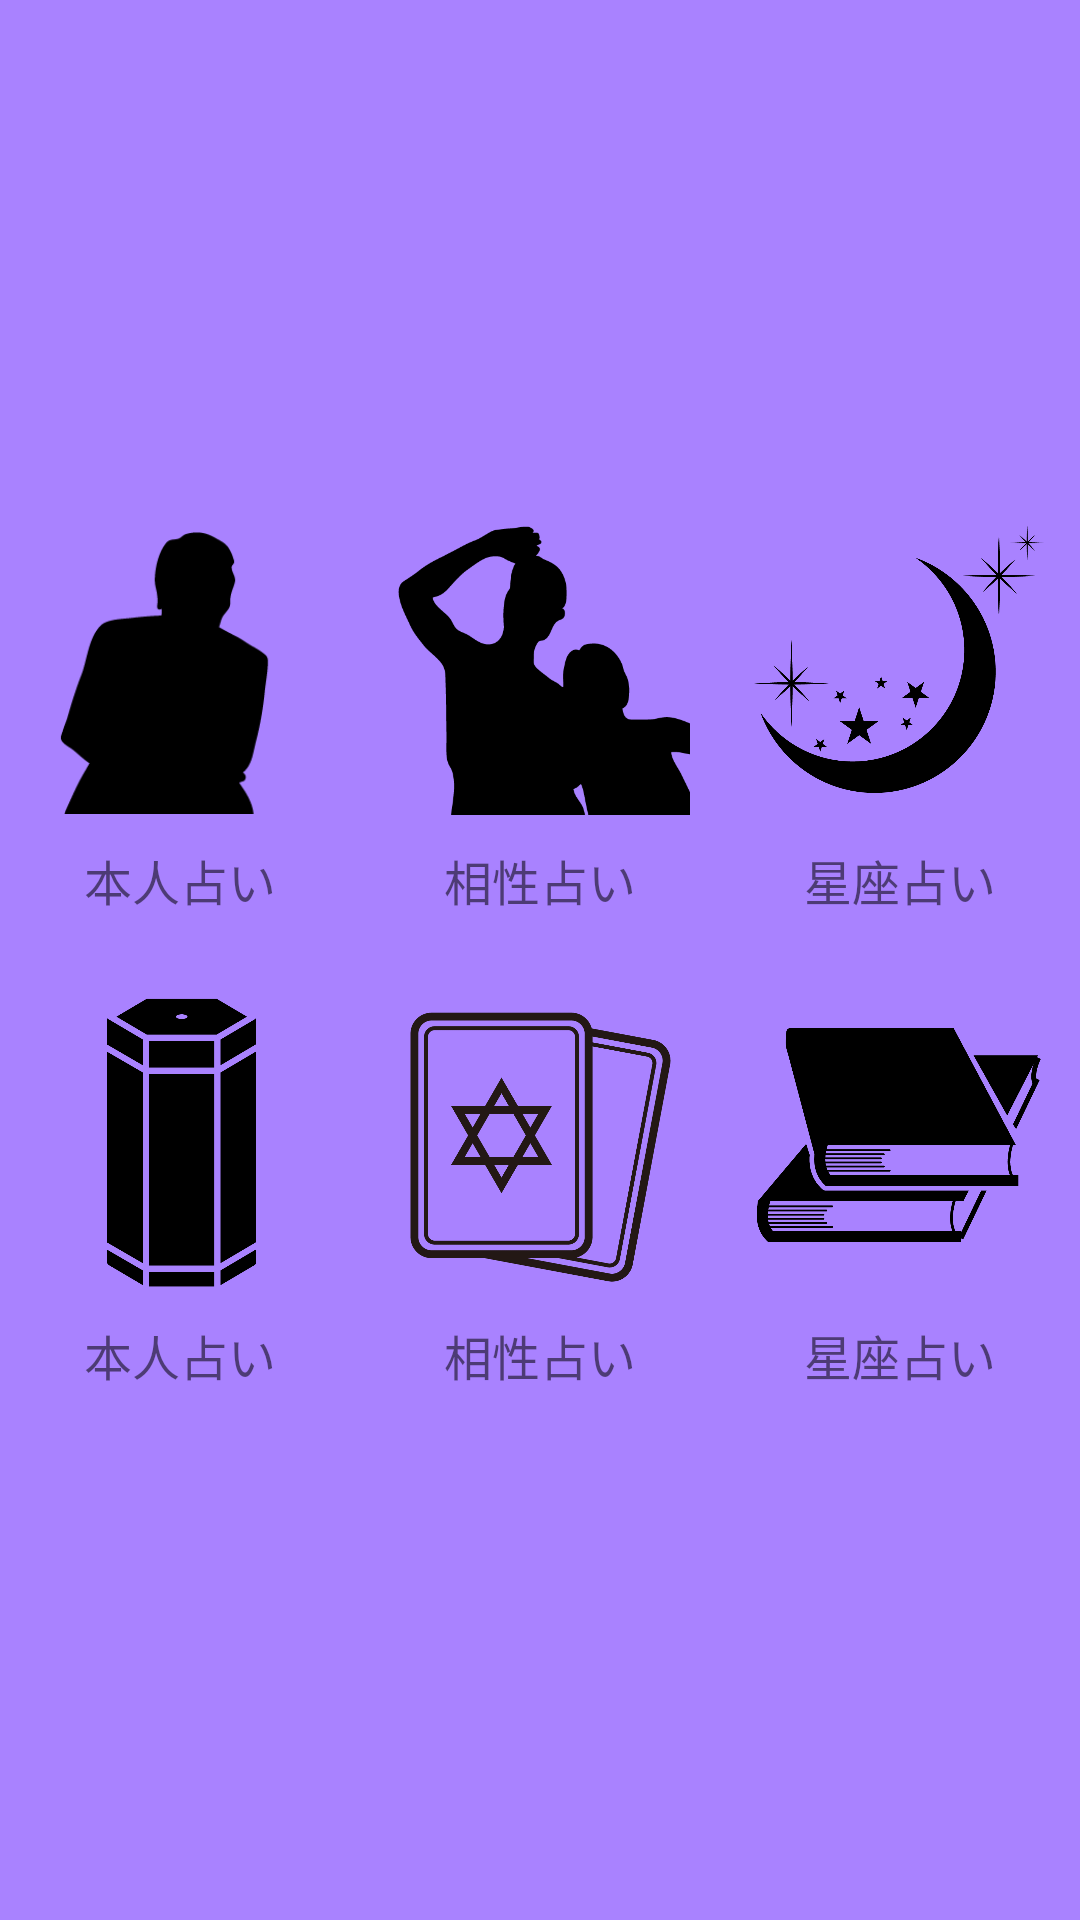

Where icons sit on this 1080w x 1920h app screen, as (x1, y1, x2, y2):
moon: (755, 526, 1042, 793)
omikuji: (107, 999, 256, 1287)
people: (398, 526, 690, 815)
person: (61, 532, 269, 814)
tarot: (410, 1012, 671, 1282)
